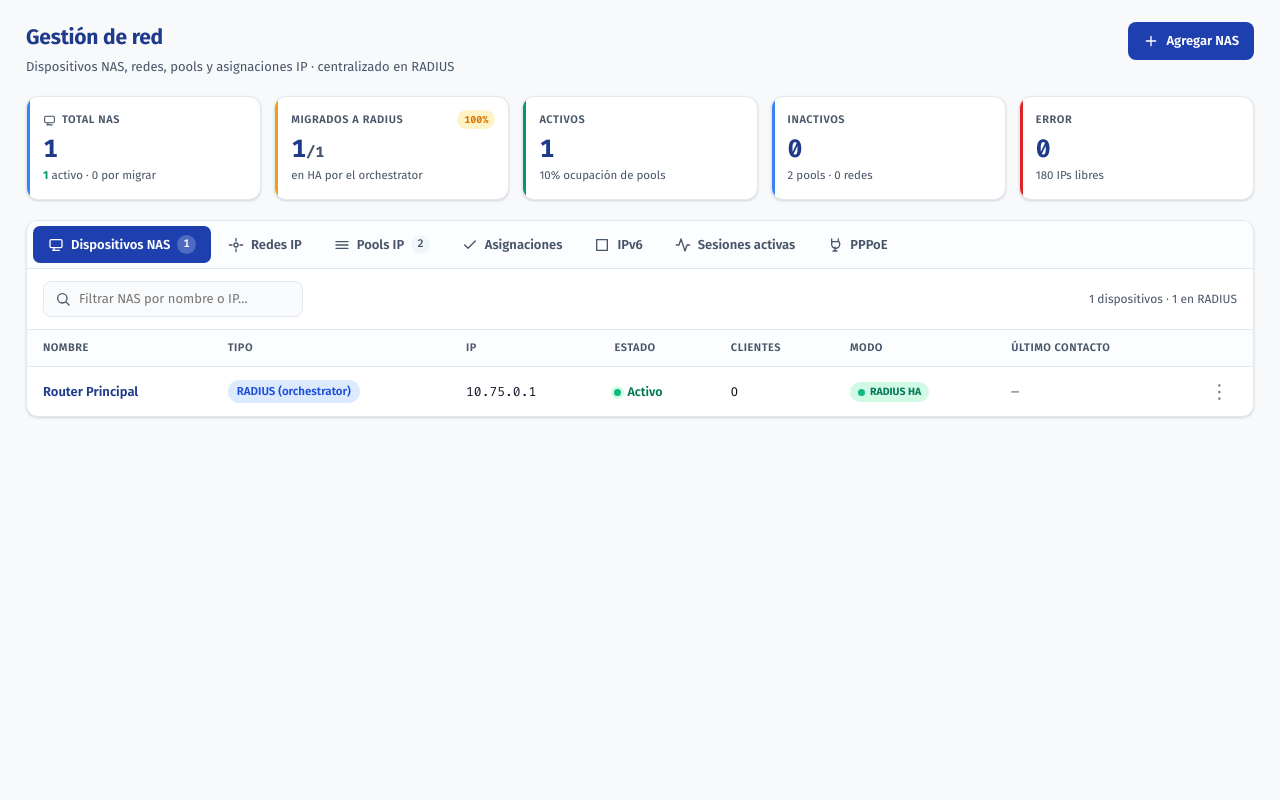
Test: GestionRedPage — Tab Pools IP › P-2: grupos colapsables › toggle colapsa el grupo y las filas desaparecen; header permanece
Click the button "Pools IP 2" at (382, 245), box [319, 226, 445, 263]
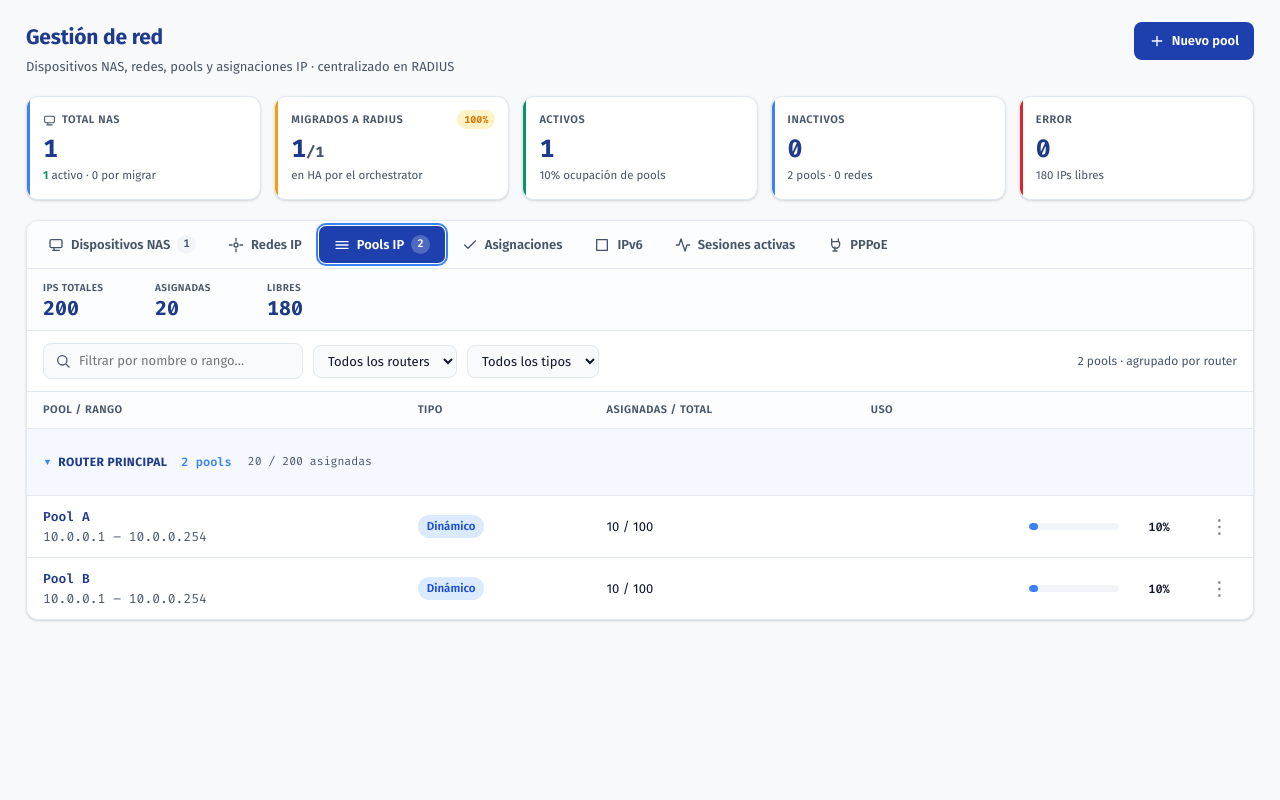
Check: the text "Pool A" is shown, box [43, 508, 90, 525]
Check: the text "Pool B" is shown, box [43, 570, 90, 587]
Click the button with aria-label "Colapsar grupo" at (137, 462), box [43, 440, 232, 484]
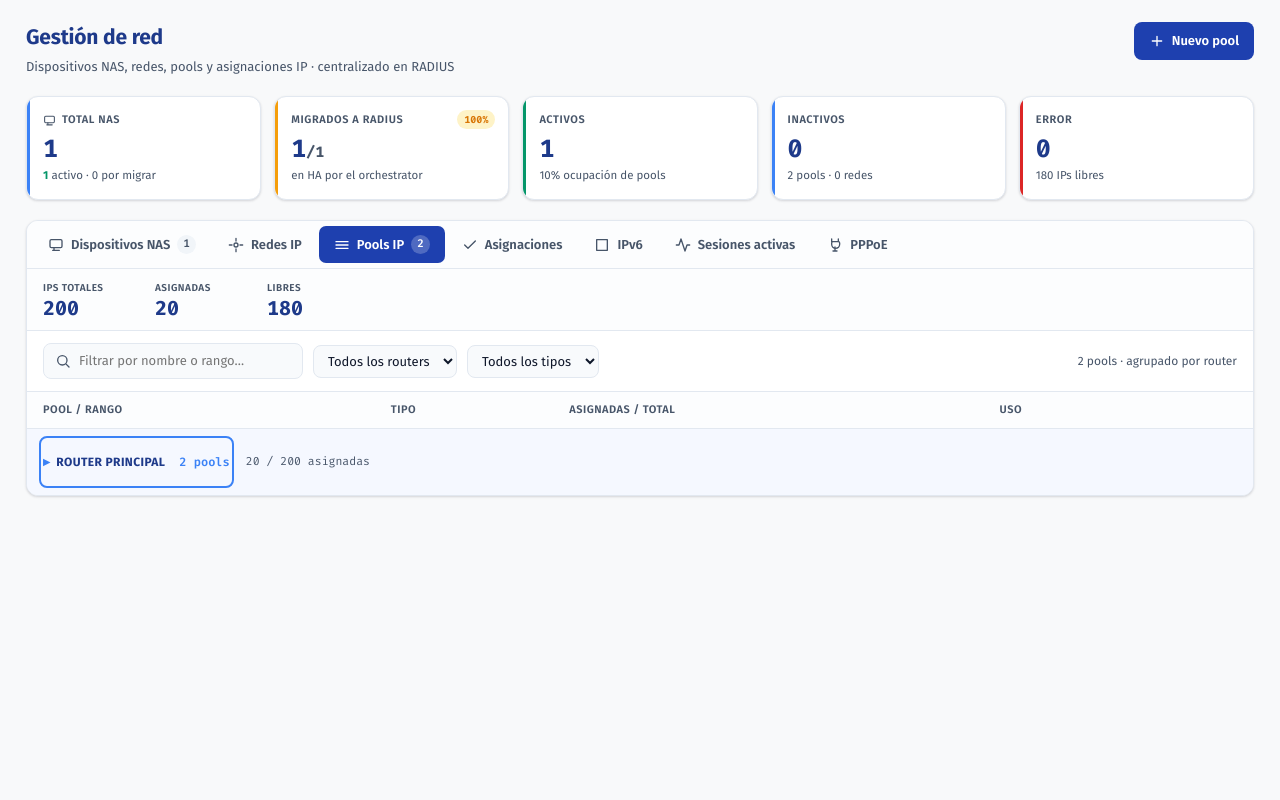
Check: the text "Pool A" is gone
Check: the text "Pool B" is gone
Check: the button with aria-label "Expandir grupo" is shown, box [43, 440, 230, 484]
